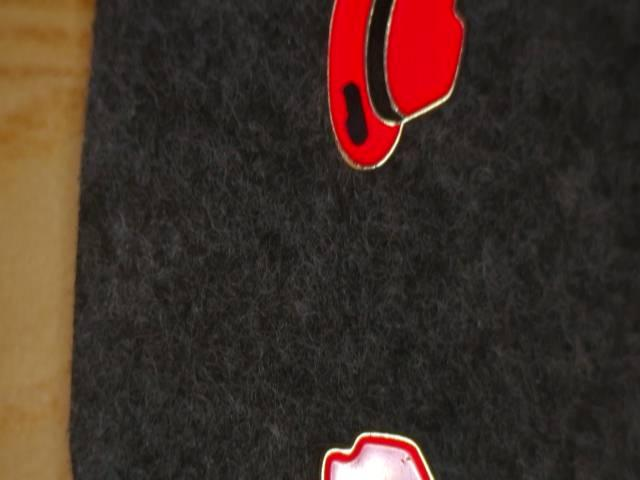Red-Hat: (294, 0, 479, 206), (300, 422, 458, 480)
Scratch: (327, 68, 383, 157)
